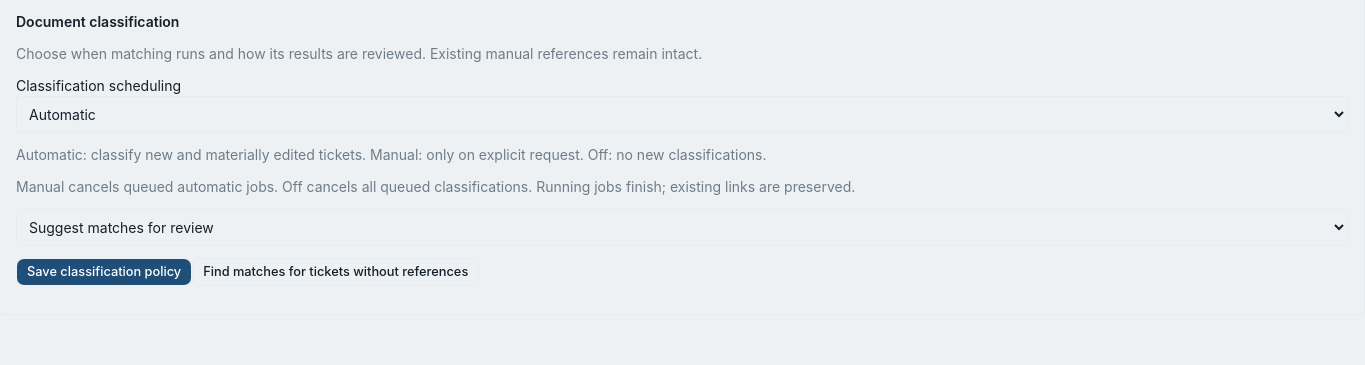
it: project document classification settings › defaults to review, saves explicit policy and only schedules backfill after a click
Select "Automatically accept unique title matches; suggest other matches" in the dropdown named "Document classification": (682, 228) [16, 209, 1348, 246]
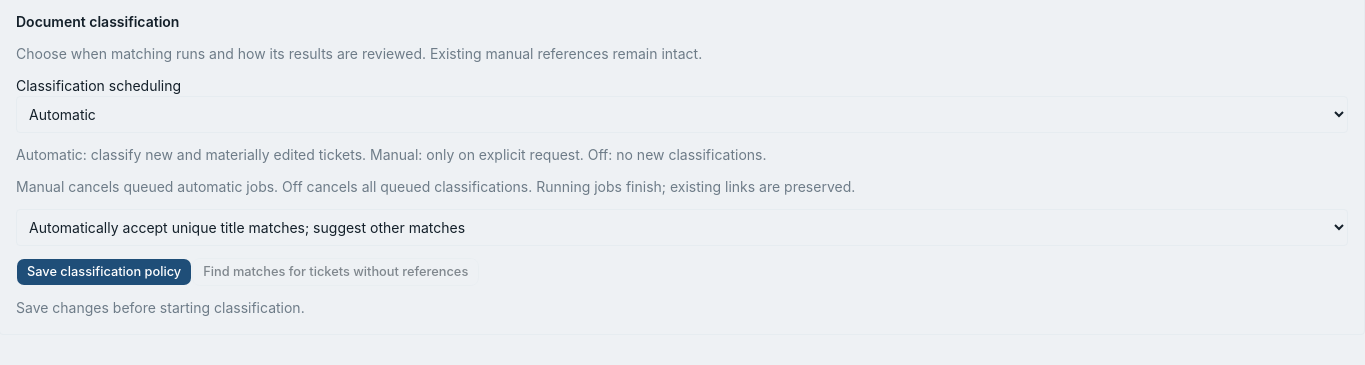
Click the button "Save classification policy": (104, 272) [16, 258, 192, 286]
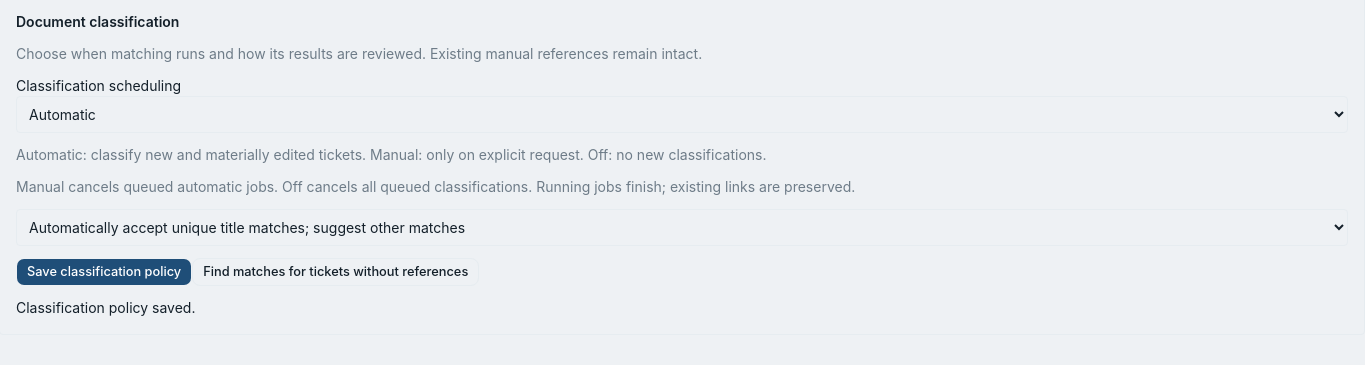
Expected: the text "Classification policy saved." is shown, [16, 299, 196, 316]
Click the button "Find matches for tickets without references": (336, 272) [192, 258, 479, 286]
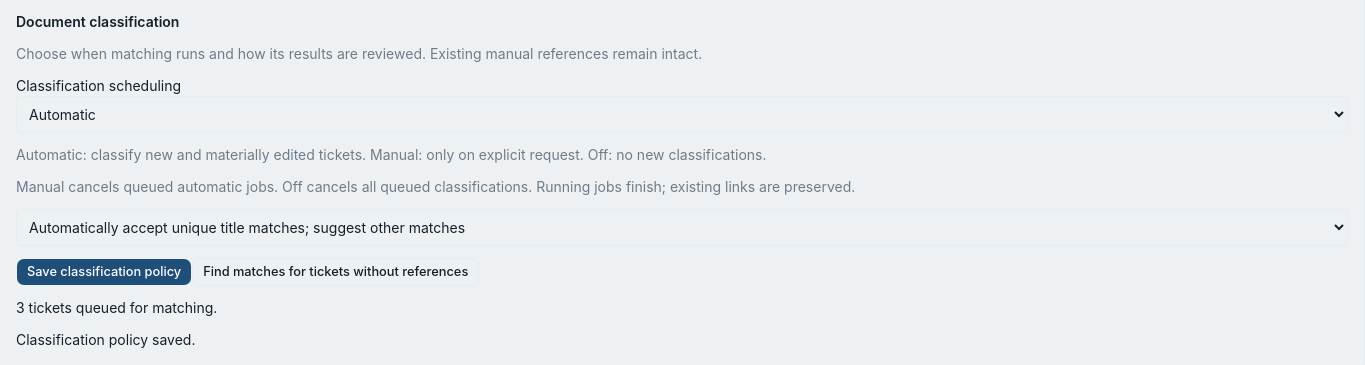
Expected: the text "3 tickets queued for matching." is shown, [16, 299, 217, 316]
